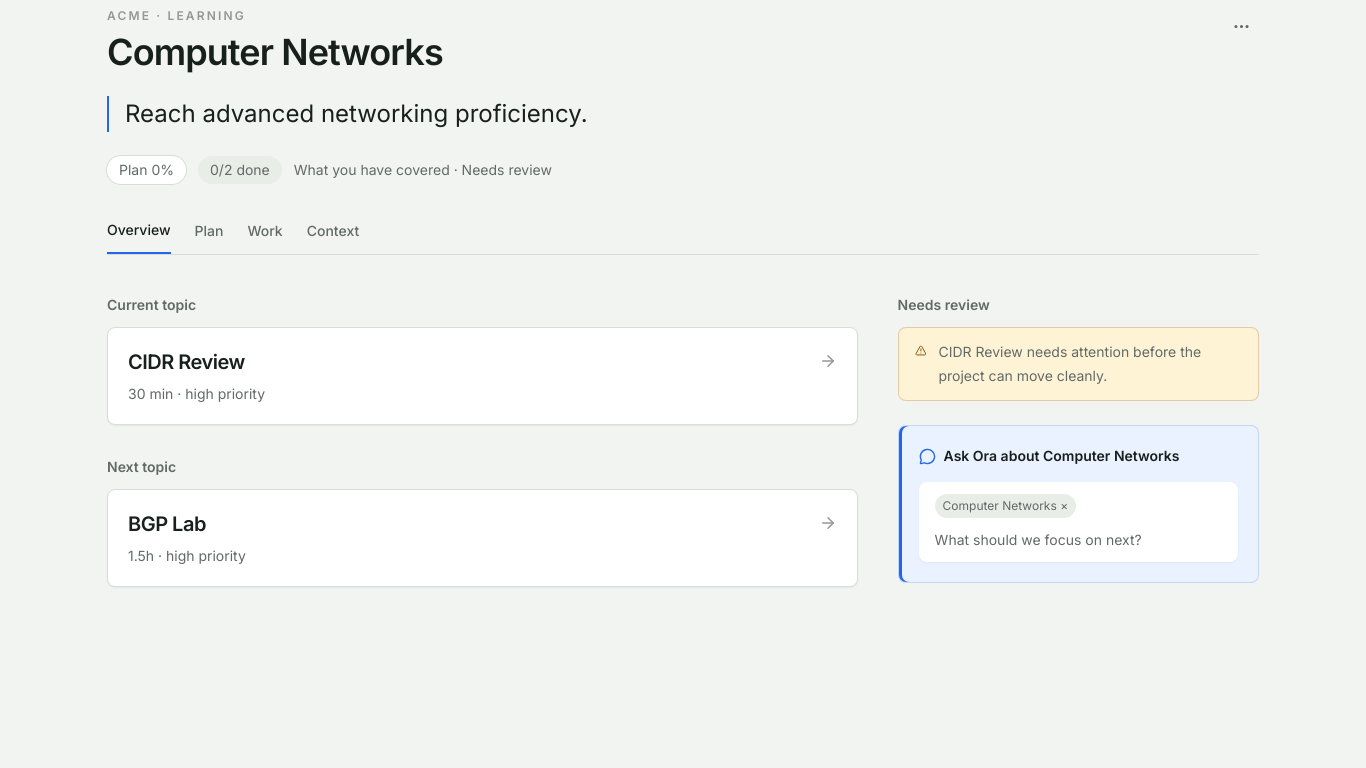
Test case: ProjectWorkspace › keeps secondary metadata inside the project info drawer
expect the text "Project info" is not shown: met
Click the button titled "Project info". click: (1241, 26)
box: x1=1223 y1=8 x2=1259 y2=44
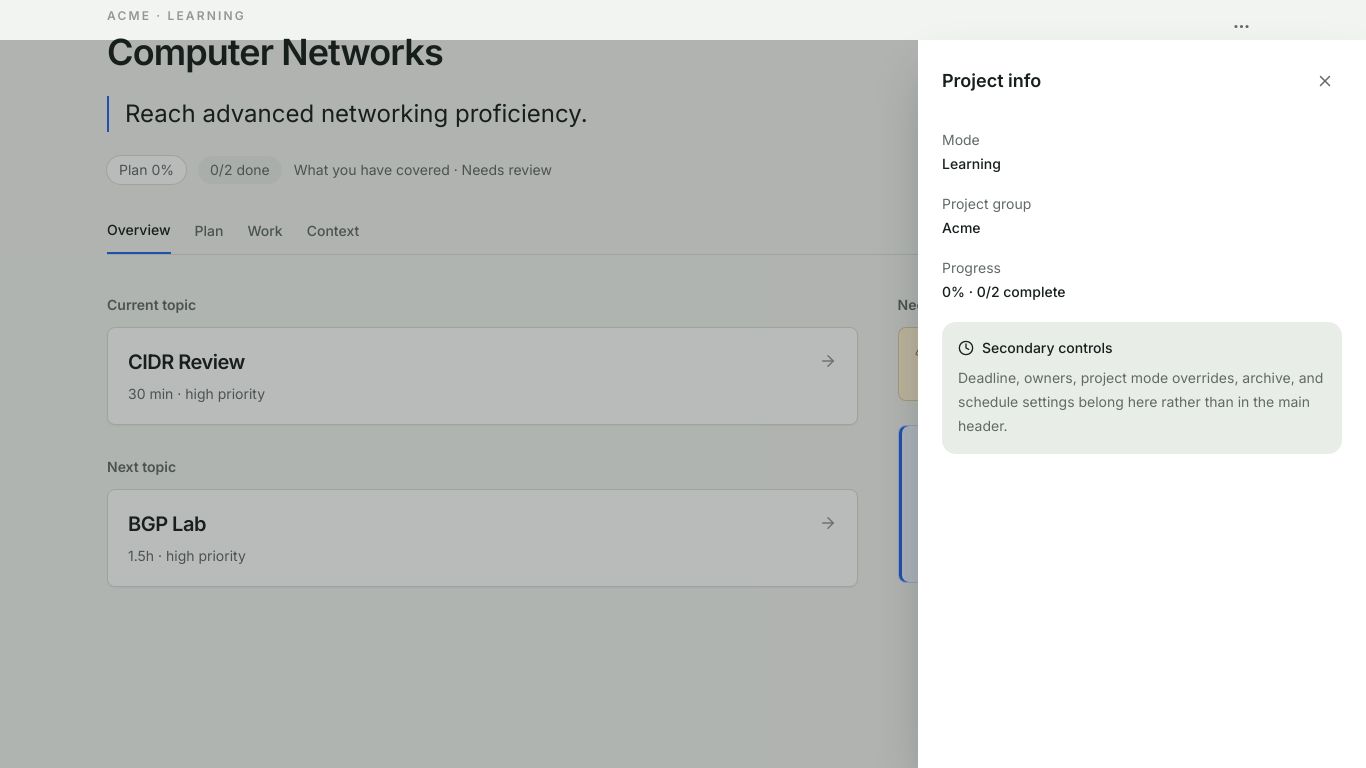
expect the heading "Project info" is shown: met, box x1=942 y1=67 x2=1041 y2=95
expect the text "Secondary controls" is shown: met, box x1=958 y1=339 x2=1113 y2=356
